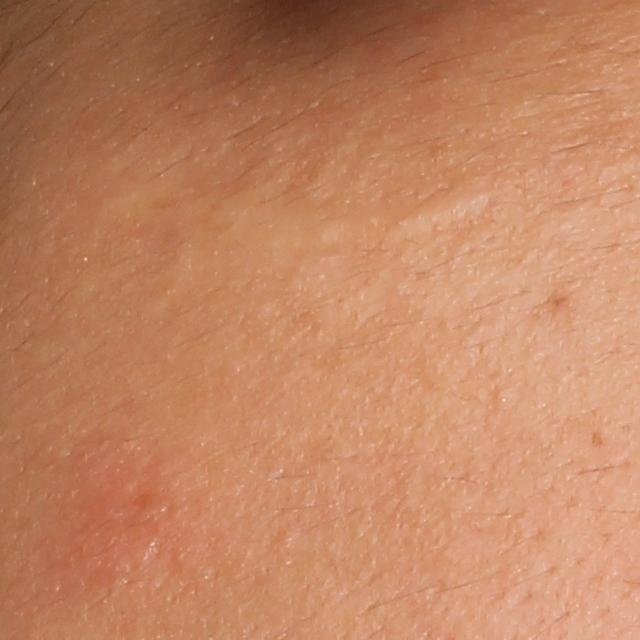comedo: (494, 389, 510, 405)
